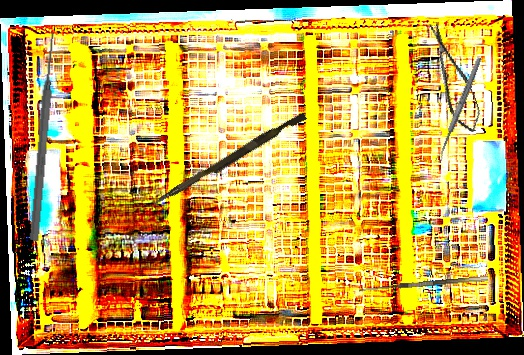Hook Surgical: (358, 275, 489, 299)
Micro Scissor: (422, 17, 486, 137)
Pusher: (152, 108, 307, 212), (27, 31, 60, 242)
Surgical Spoon: (434, 56, 483, 164)
